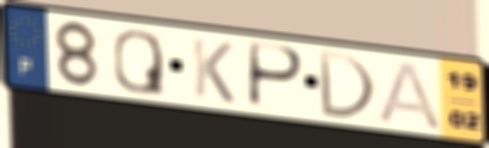8: (51, 18, 103, 90)
A: (374, 57, 446, 133)
D: (315, 47, 379, 123)
K: (189, 34, 238, 107)
P: (245, 40, 308, 112)
Q: (111, 27, 168, 98)
